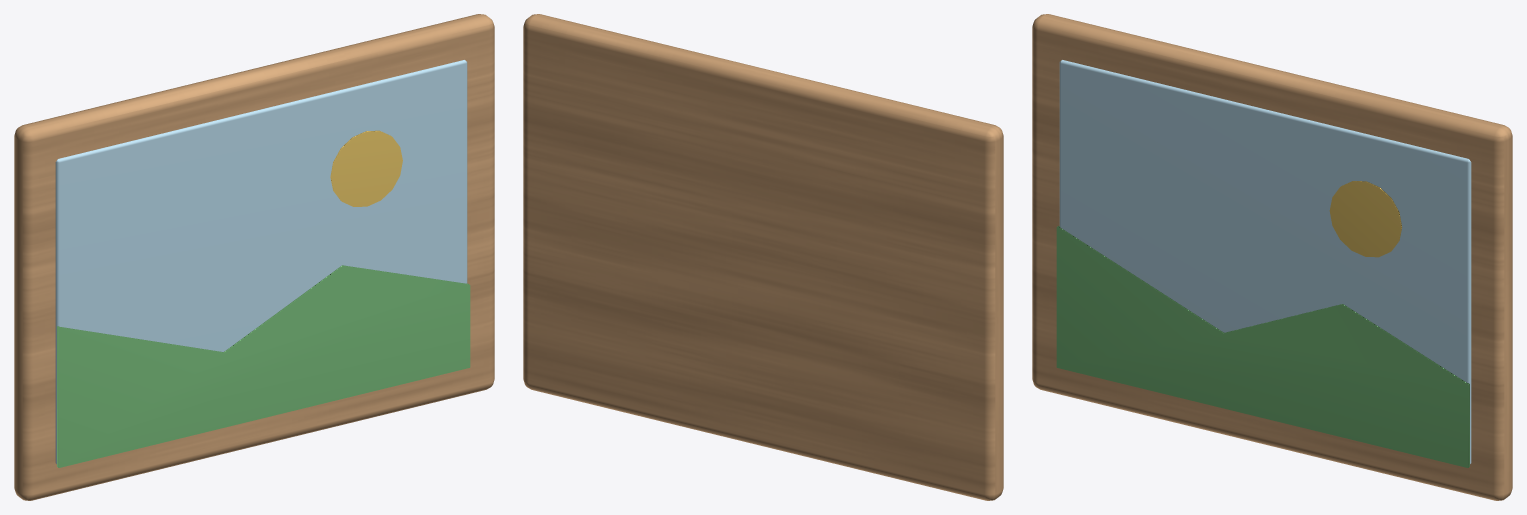
File: prop_picture.glb
The picture shows the model from 3 angles, left to right: view 1: azimuth 30°, elevation 25°; view 2: azimuth 150°, elevation 25°; view 3: azimuth 330°, elevation 25°; orthographic projection.
Parts seen in each view (by area): view 1: prop_picture; view 2: prop_picture; view 3: prop_picture.
Part boxes in pixels (x1=…): prop_picture: x1=14, y1=14, x2=494, y2=500; prop_picture: x1=523, y1=14, x2=1003, y2=500; prop_picture: x1=1032, y1=14, x2=1512, y2=500.
Bounding box in the file's own units: 0.75 × 0.5625 × 0.0463.
Materials: 4 (1 with a texture image).
